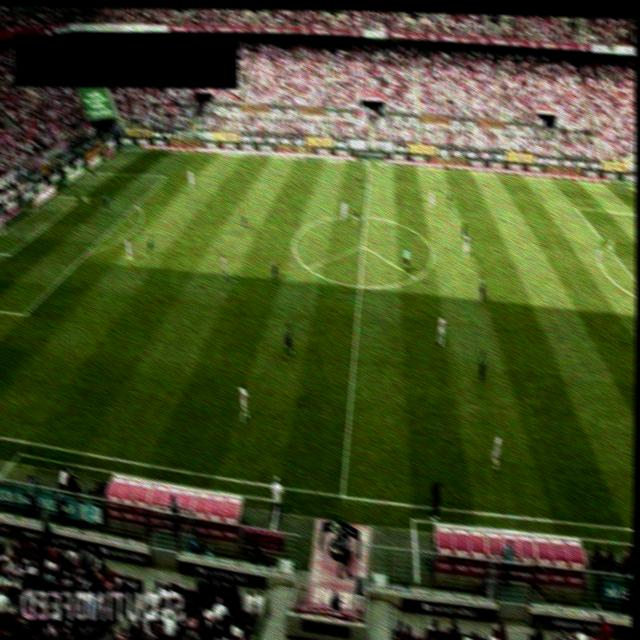bigarea_bottom_inner: (18, 306, 31, 318)
bigarea_top_inner: (571, 202, 583, 214), (162, 171, 173, 180)
bigarea_top_outter: (83, 167, 96, 178)
bottom_arc_area_intersection: (81, 247, 93, 258)
corner: (117, 143, 130, 155), (625, 181, 636, 190)
halfcircle_bottom: (352, 280, 366, 292)
halfcircle_top: (358, 210, 372, 222)
midline_bottom_intersection: (335, 488, 350, 503)
midline_top_intersection: (363, 156, 376, 168)
smallarea_bottom_inner: (5, 247, 17, 259)
smallarea_top_inner: (76, 190, 89, 203)
smallarea_top_outter: (49, 190, 61, 202)
top_arc_area_intersection: (601, 239, 614, 252), (129, 200, 142, 212)
